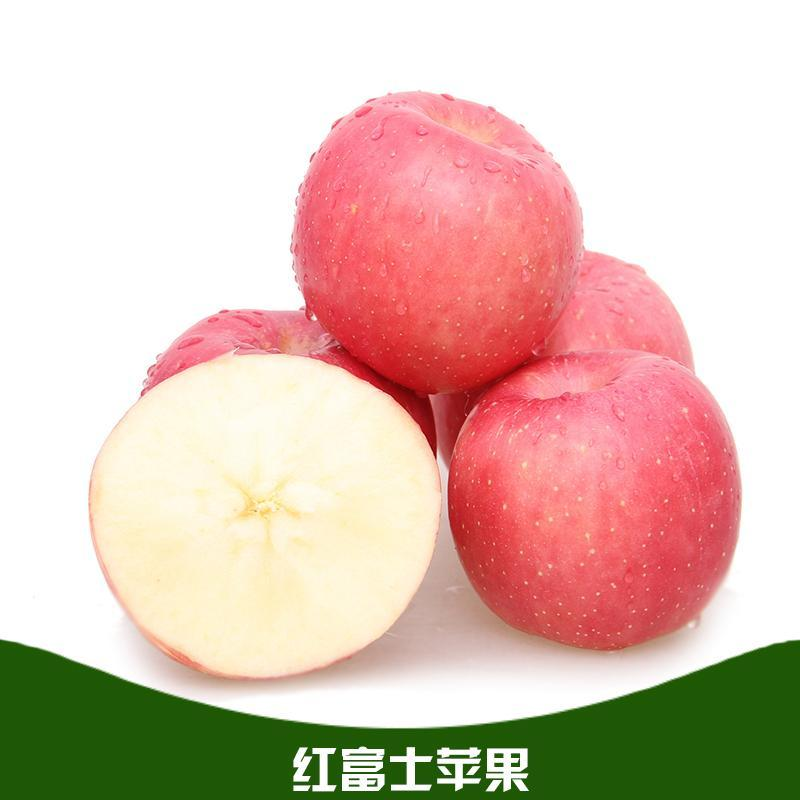apple: (298, 95, 594, 394), (447, 348, 742, 647)
